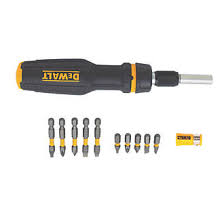screwdriver: (13, 52, 218, 111)
